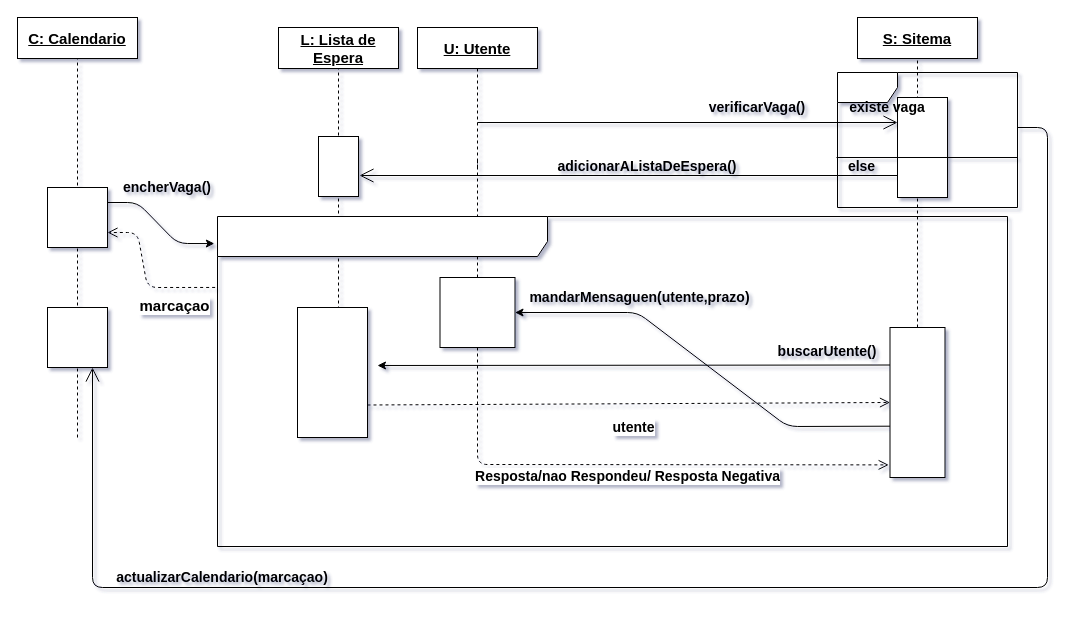
The diagram is 1085 pixels wide and 625 high, and some of its shapes have lost their labels. The shapes that lost their labels are listed below. From the top down, each one's box as (x1, y1, x2, y2) in pixels, then its label:
(836, 72, 1018, 208): alt
(216, 216, 1008, 546): Loop(respostaNegativa)
